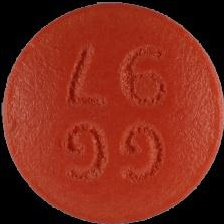0781-1436: (0, 0, 224, 224)
